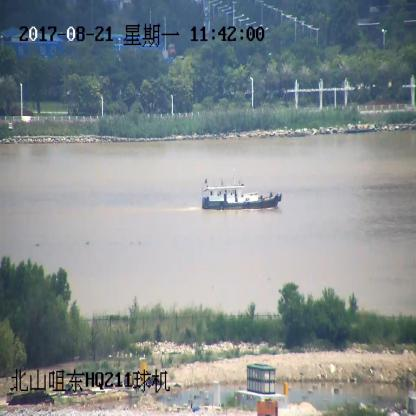Fishing Boat: (200, 172, 282, 211)
